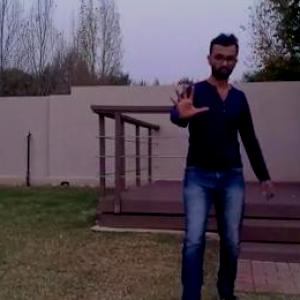follow_hand: (159, 73, 211, 127)
